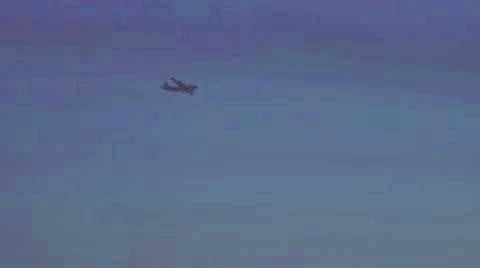Plane: (140, 70, 218, 104)
